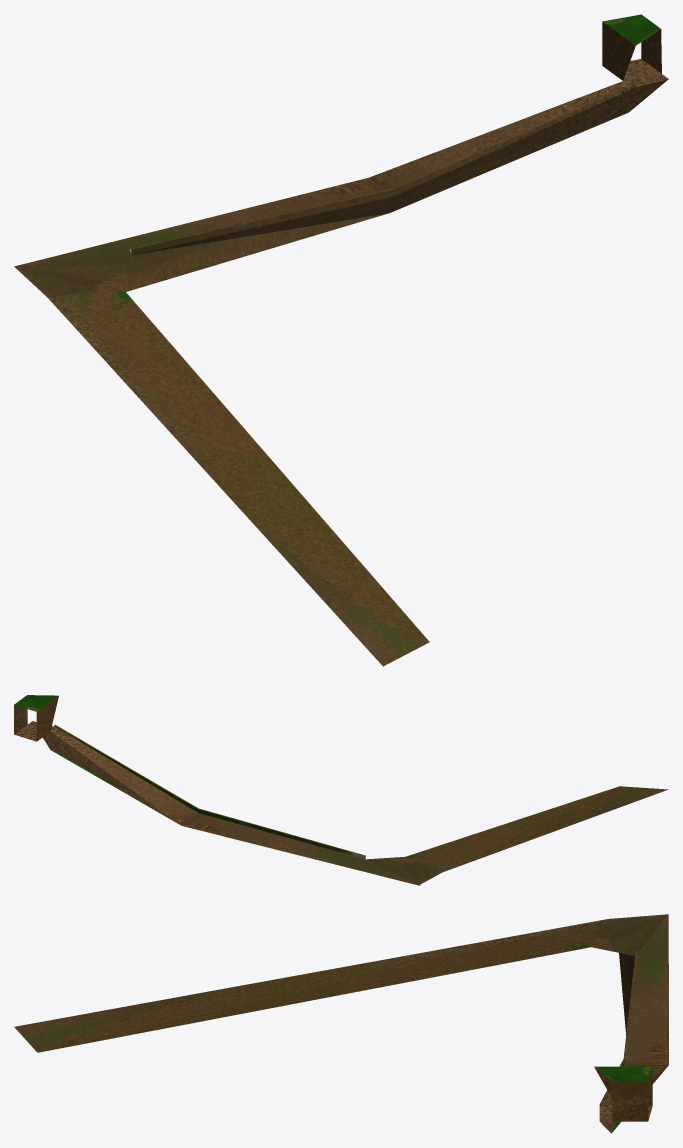
Rendered from canyon_walkway.obj.
3 views of the same model, one above another, from view 1: azimuth 30°, elevation 25°; view 2: azimuth 150°, elevation 25°; view 3: azimuth 270°, elevation 25° (orthographic). The views are drawn at different scales.
Parts seen in each view (by area): view 1: canyon.walkway_Plane.004; view 2: canyon.walkway_Plane.004; view 3: canyon.walkway_Plane.004.
Boxes of the visible parts, x1=… form: canyon.walkway_Plane.004: x1=14, y1=14, x2=668, y2=666; canyon.walkway_Plane.004: x1=14, y1=695, x2=668, y2=885; canyon.walkway_Plane.004: x1=14, y1=914, x2=668, y2=1133.
Bounding box in the file's own units: 231 × 85.48 × 241.
Materials: 1 (1 with a texture image).
